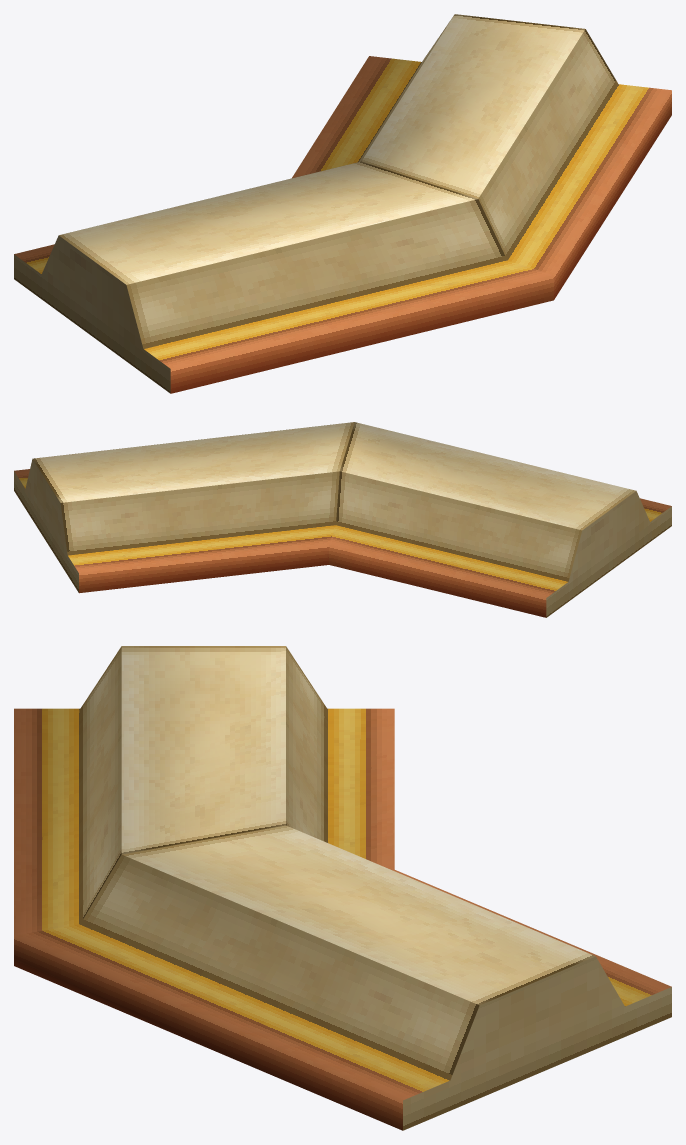
The model's file is a_SEblockB02.glb.
The picture shows the model from 3 angles, top to bottom: view 1: azimuth 30°, elevation 25°; view 2: azimuth 150°, elevation 25°; view 3: azimuth 270°, elevation 25°; orthographic projection. The views are drawn at different scales.
Parts seen in each view (by area): view 1: a_SEblockB02; view 2: a_SEblockB02; view 3: a_SEblockB02.
Boxes of the visible parts, x1=… form: a_SEblockB02: x1=14, y1=14, x2=671, y2=393; a_SEblockB02: x1=14, y1=422, x2=671, y2=617; a_SEblockB02: x1=14, y1=646, x2=671, y2=1130.
Bounding box in the file's own units: 1.41 × 0.1558 × 1.
Materials: 1 (1 with a texture image).
